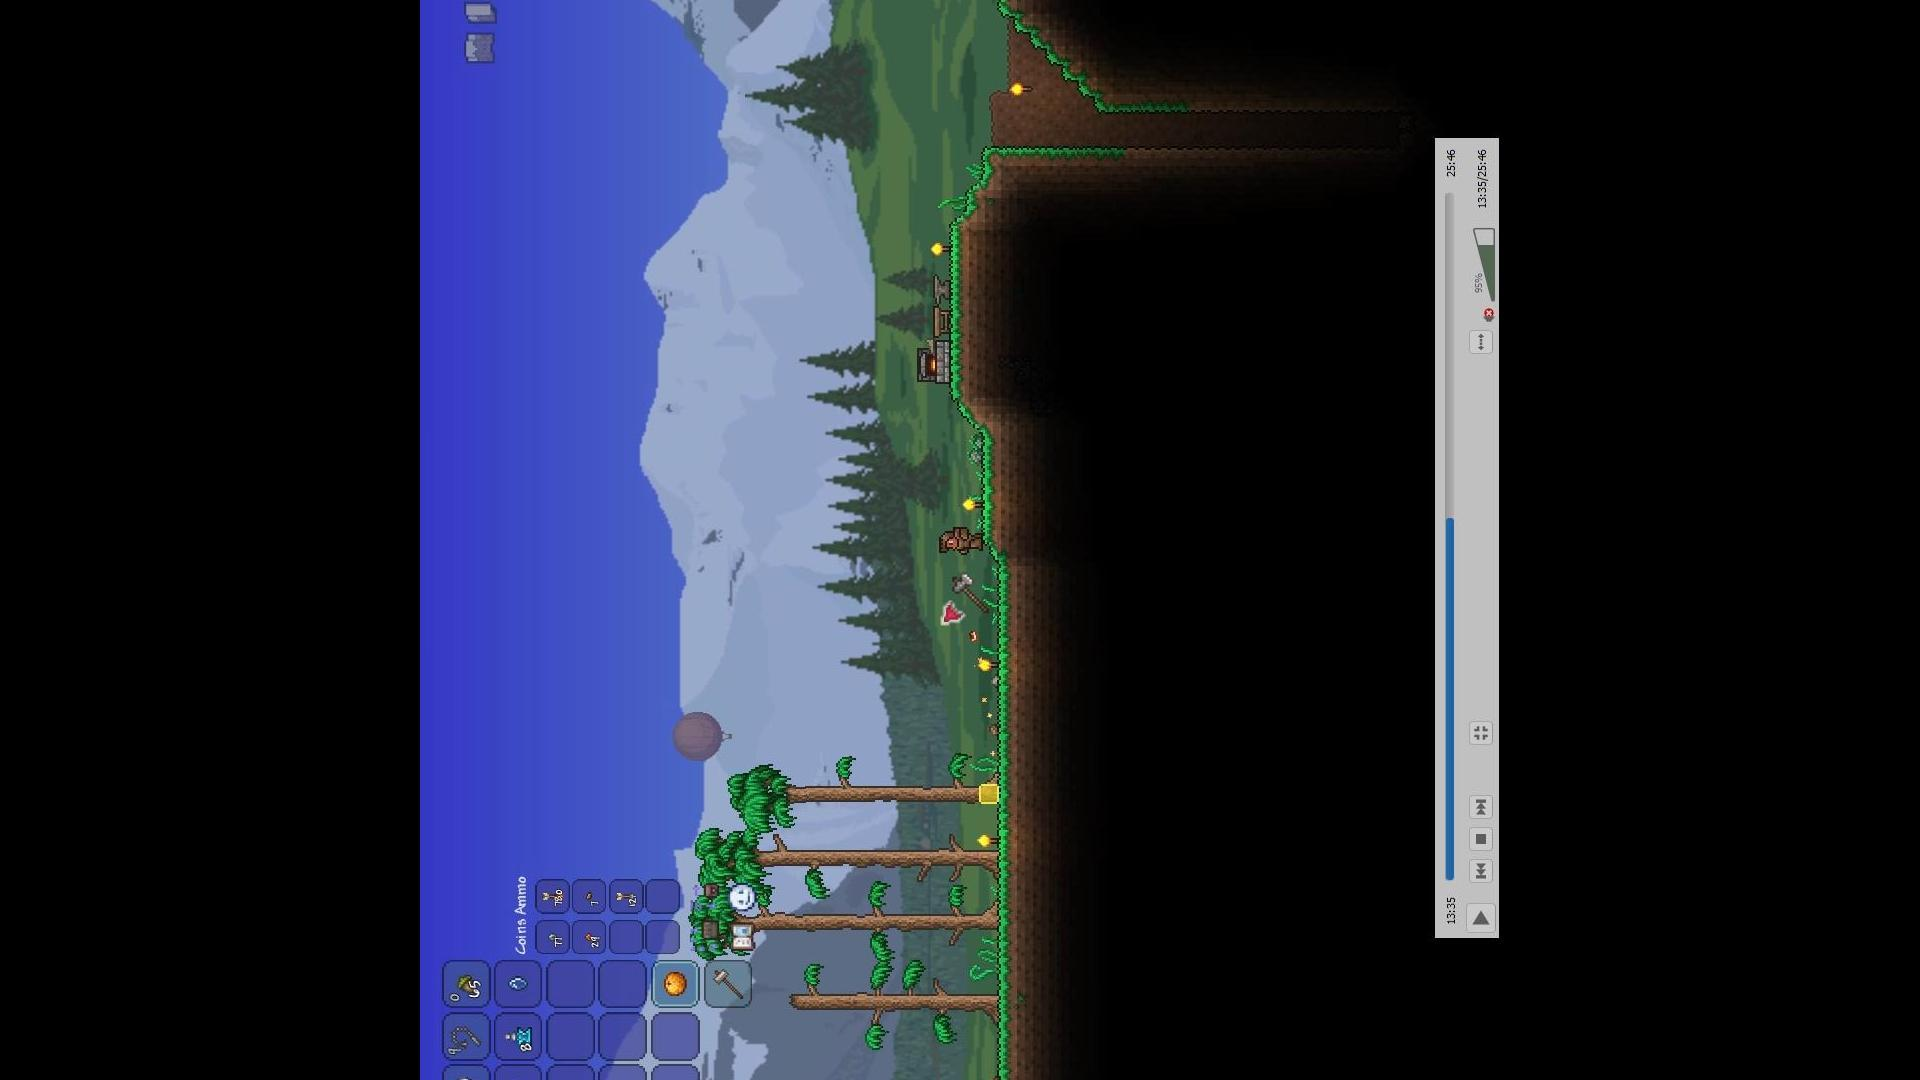anvil: (924, 270, 953, 306)
furnace: (911, 334, 952, 384)
recallP: (500, 1023, 535, 1047)
